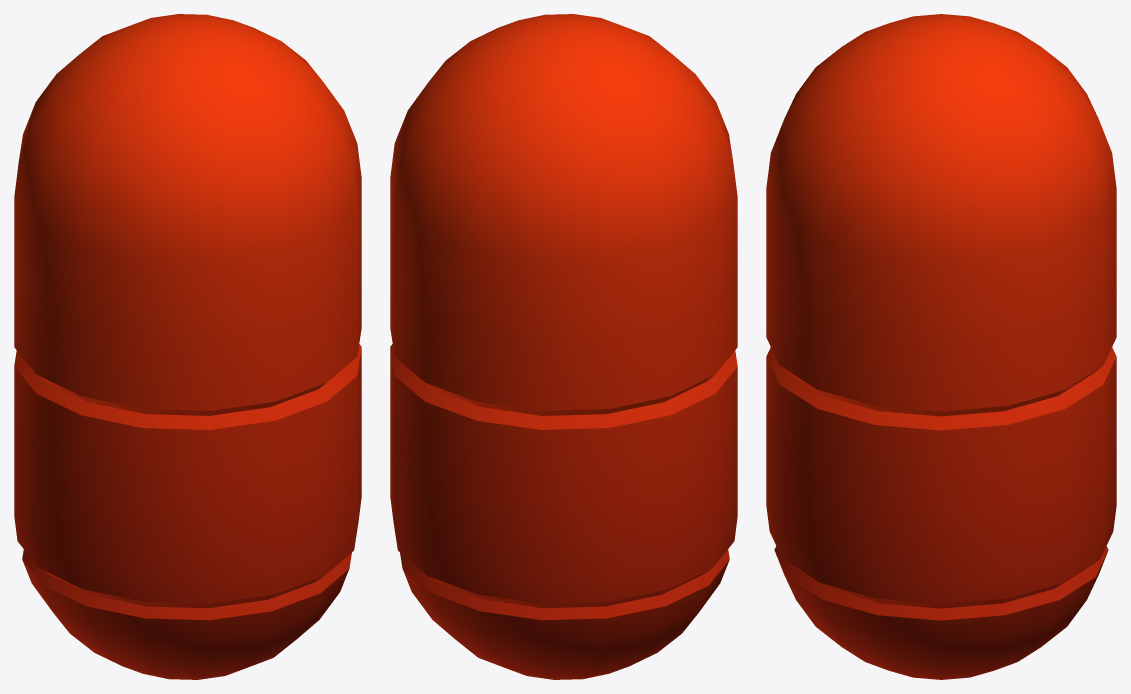
File: Capsule_Body_AB_01.fbx
3 views of the same model, side by side, from view 1: azimuth 30°, elevation 25°; view 2: azimuth 150°, elevation 25°; view 3: azimuth 270°, elevation 25° (orthographic).
Parts seen in each view (by area): view 1: Capsule_Body_AB_01; view 2: Capsule_Body_AB_01; view 3: Capsule_Body_AB_01.
Boxes of the visible parts, box(x1,y1,x2,y2) form: Capsule_Body_AB_01: box(14, 14, 361, 679); Capsule_Body_AB_01: box(390, 14, 737, 679); Capsule_Body_AB_01: box(766, 14, 1116, 679).
Bounding box in the file's own units: 100 × 200 × 100.
